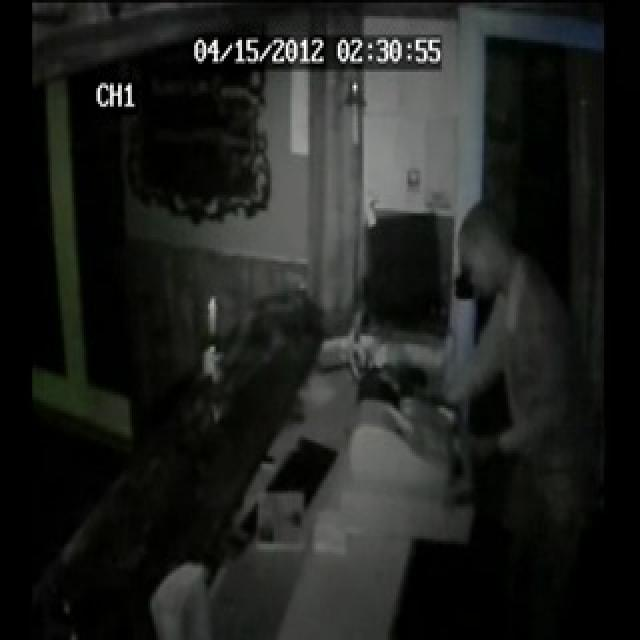thief: (437, 175, 535, 348)
